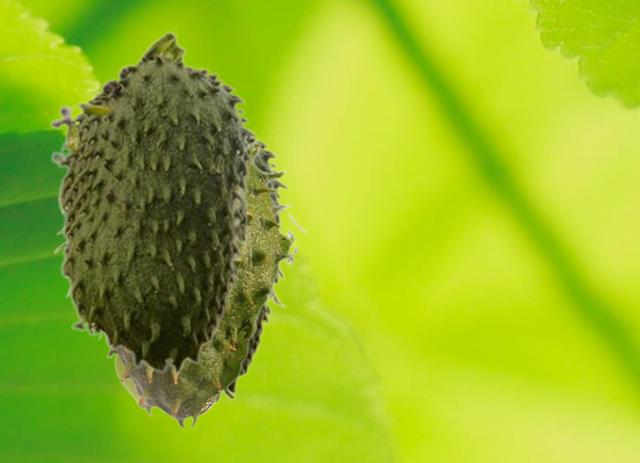guyabano: (53, 141, 307, 428), (50, 29, 258, 374), (216, 130, 289, 403)
